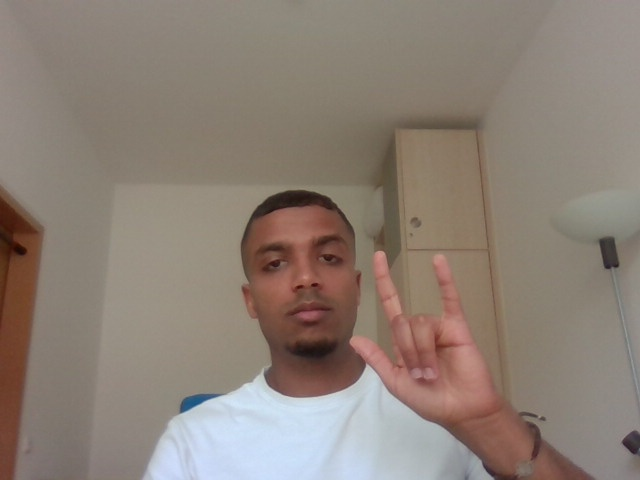absolutely: (350, 245, 524, 435)
